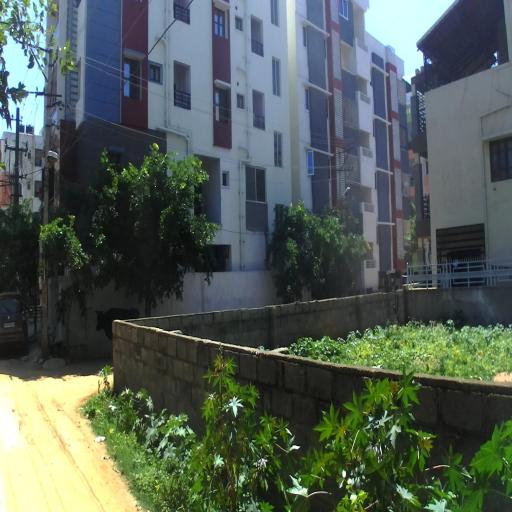street_light_0: (43, 151, 58, 193)
